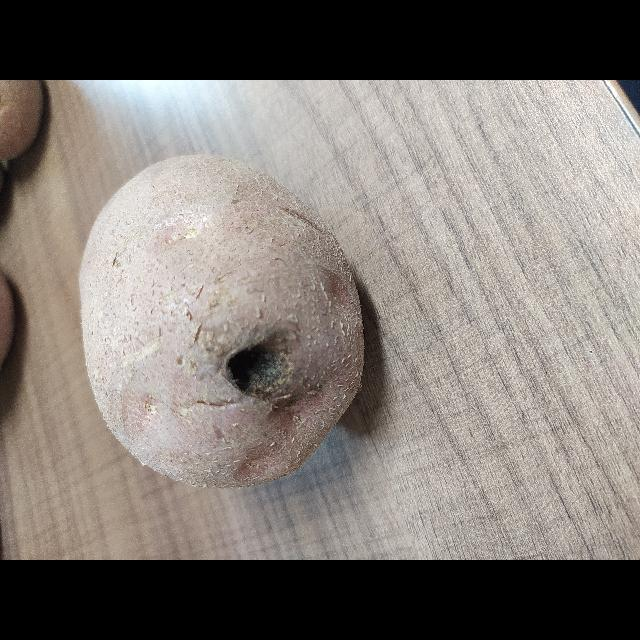Damaged potato: (58, 149, 430, 457)
